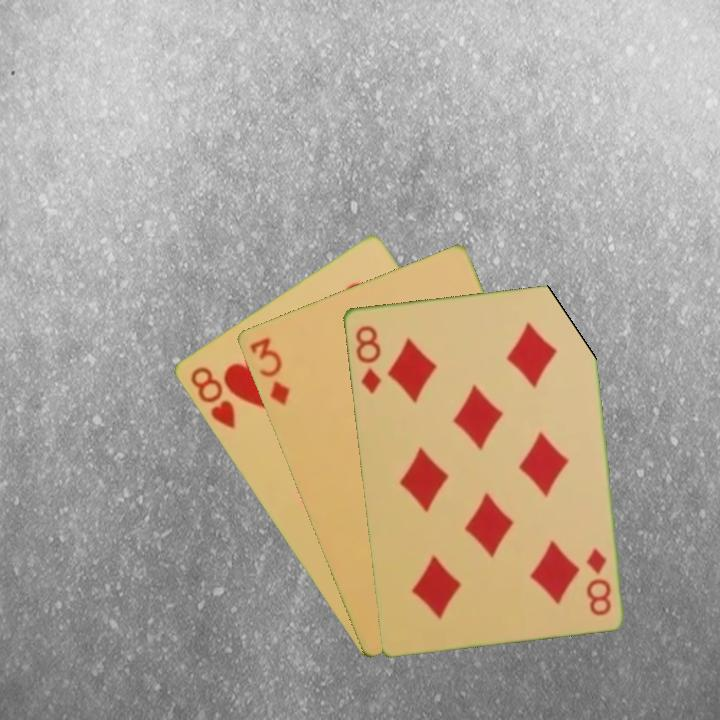3d: (245, 333, 292, 409)
8d: (351, 322, 384, 396), (582, 544, 614, 618)
8h: (186, 362, 238, 432)
